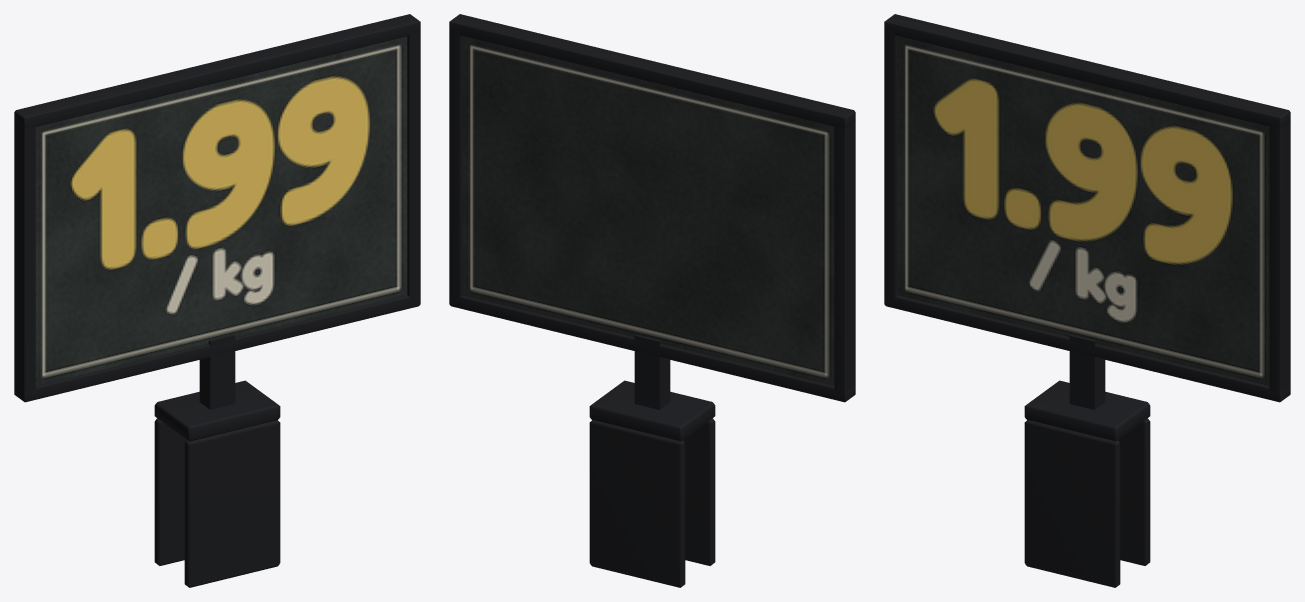
The model's file is sk_sign_crate_price_clip.glb.
The picture shows the model from 3 angles, left to right: view 1: azimuth 30°, elevation 25°; view 2: azimuth 150°, elevation 25°; view 3: azimuth 330°, elevation 25°; orthographic projection.
Parts seen in each view (by area): view 1: sk_sign_crate_price_clip; view 2: sk_sign_crate_price_clip; view 3: sk_sign_crate_price_clip.
Boxes of the visible parts, x1,y1,x2,y2 form: sk_sign_crate_price_clip: [14, 14, 420, 587]; sk_sign_crate_price_clip: [449, 14, 855, 587]; sk_sign_crate_price_clip: [884, 14, 1290, 587].
Size of the model in its own units: 0.128 by 0.154 by 0.0196.
2 materials, 1 textured.
